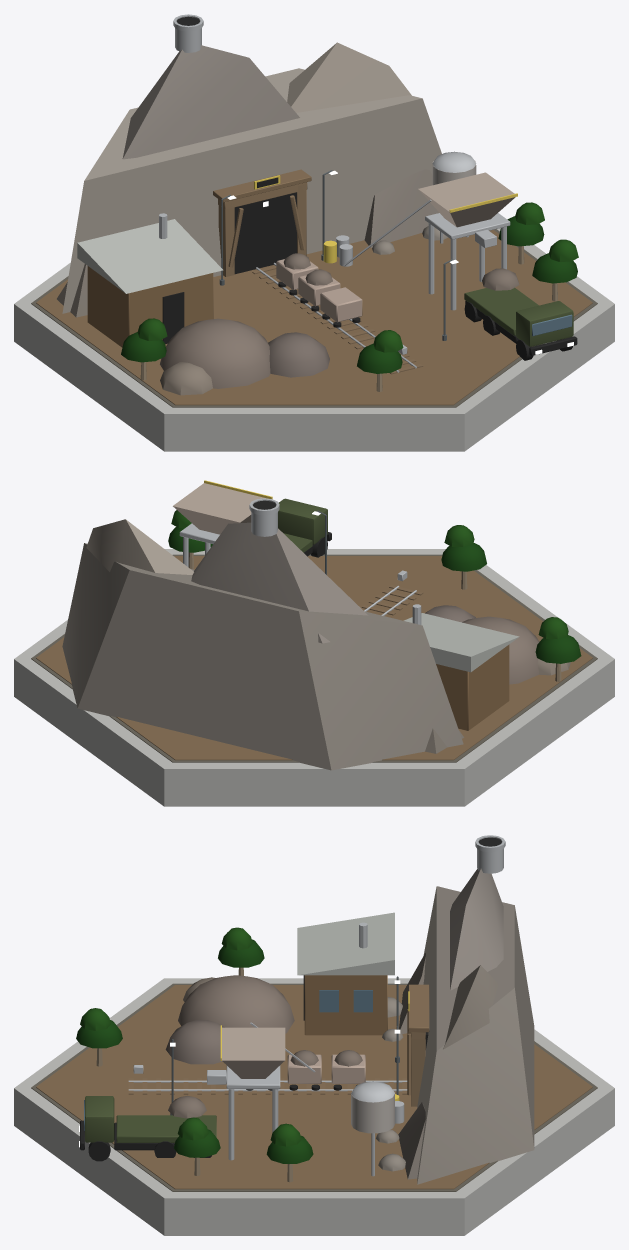
Rendered from mountainMine.glb.
The picture shows the model from 3 angles, top to bottom: view 1: azimuth 30°, elevation 25°; view 2: azimuth 150°, elevation 25°; view 3: azimuth 270°, elevation 25°; orthographic projection.
Parts seen in each view (by area): view 1: gravel, earth, wall_concrete, metal, wood, dark, leaf, paint, pavers, steel_dark, hazard; view 2: gravel, wall_concrete, earth, metal, wood, leaf, pavers, paint, dark; view 3: gravel, earth, wall_concrete, metal, wood, leaf, paint, pavers, dark, glass.
Part boxes in pixels (<box>): gravel: <box>57,42,519,395</box>; earth: <box>36,230,592,405</box>; wall_concrete: <box>14,228,614,451</box>; metal: <box>77,14,515,372</box>; wood: <box>87,169,557,391</box>; dark: <box>162,16,577,360</box>; leaf: <box>121,202,578,373</box>; paint: <box>464,287,573,346</box>; pavers: <box>31,229,597,407</box>; steel_dark: <box>219,170,453,340</box>; hazard: <box>254,175,517,263</box>; gravel: <box>62,519,570,770</box>; wall_concrete: <box>14,549,614,806</box>; earth: <box>36,556,592,760</box>; metal: <box>173,483,519,672</box>; wood: <box>188,552,561,730</box>; leaf: <box>168,510,581,663</box>; pavers: <box>31,554,597,762</box>; paint: <box>278,498,327,552</box>; dark: <box>253,500,331,557</box>; gravel: <box>165,868,534,1184</box>; earth: <box>36,985,592,1189</box>; wall_concrete: <box>14,978,614,1235</box>; metal: <box>128,835,505,1176</box>; wood: <box>96,967,429,1182</box>; leaf: <box>76,927,313,1163</box>; paint: <box>85,1096,216,1142</box>; pavers: <box>31,983,597,1191</box>; dark: <box>80,837,501,1161</box>; glass: <box>84,990,372,1130</box>.
Size of the model in its own units: 21.37 by 12 by 24.6.
